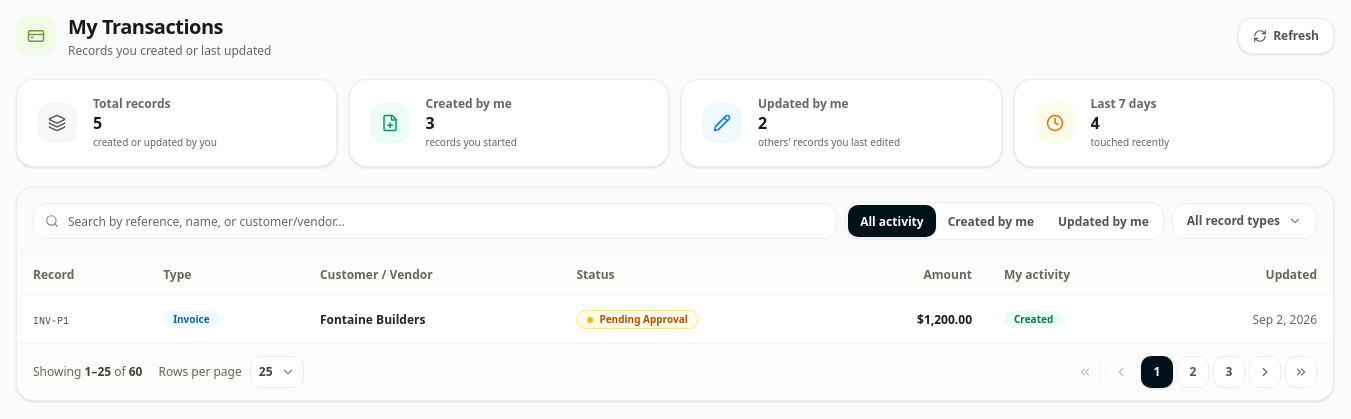
Scenario: TransactionsPage › pagination › does not refetch the stat cards when turning pages
Expected: the link "INV-P1" is shown, x1=33 y1=314 x2=69 y2=327
Click the button named "Next page" at (1265, 372), box x1=1249 y1=356 x2=1281 y2=388
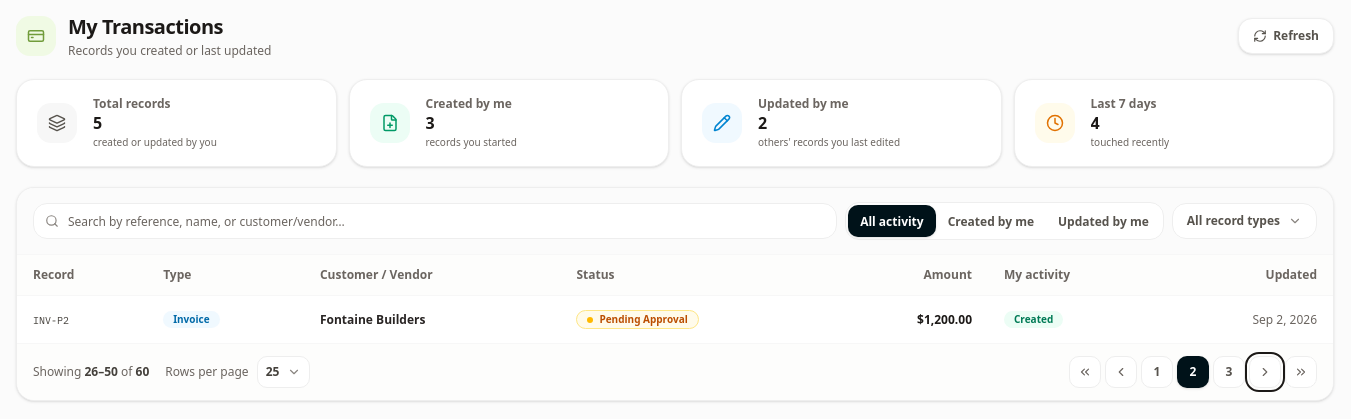
Now the link "INV-P2" is shown, box x1=33 y1=314 x2=69 y2=327
